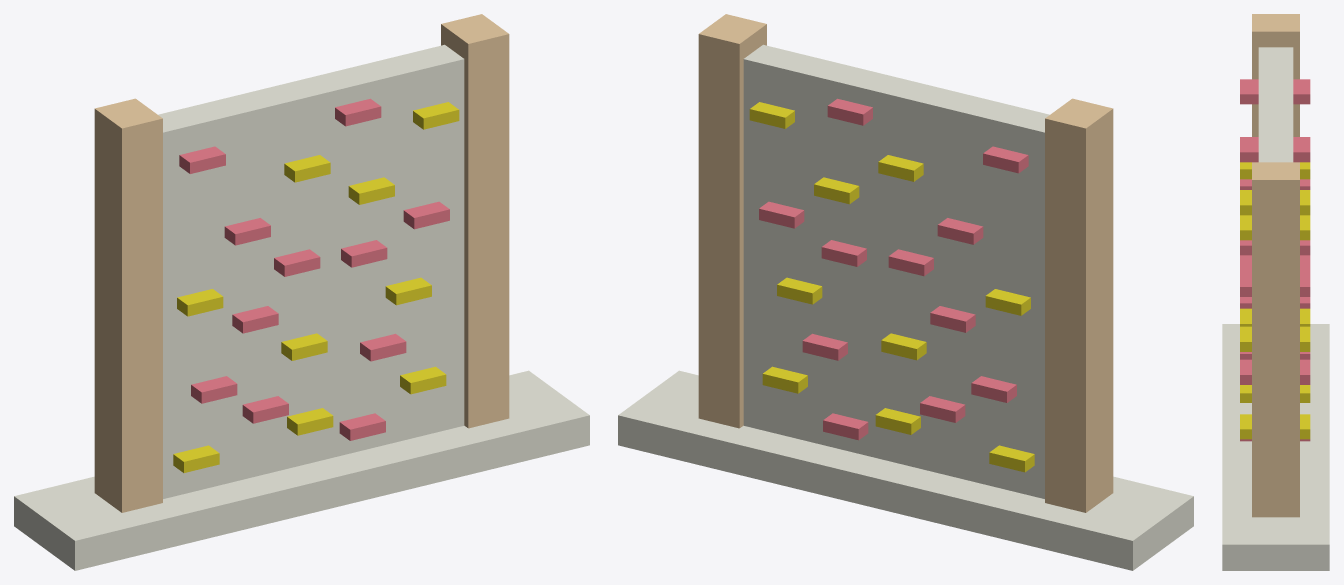
Rendered from low-poly-climbing-wall.fbx.
3 views of the same model, side by side, from view 1: azimuth 30°, elevation 25°; view 2: azimuth 150°, elevation 25°; view 3: azimuth 270°, elevation 25° (orthographic). The views are drawn at different scales.
Visible parts, largest first — view 1: Cube.038; view 2: Cube.038; view 3: Cube.038.
Part boxes in pixels (<box>): Cube.038: <box>14,14,589,570</box>; Cube.038: <box>618,14,1193,570</box>; Cube.038: <box>1222,14,1329,570</box>.
Bounding box in the file's own units: 141 × 109 × 29.05.
